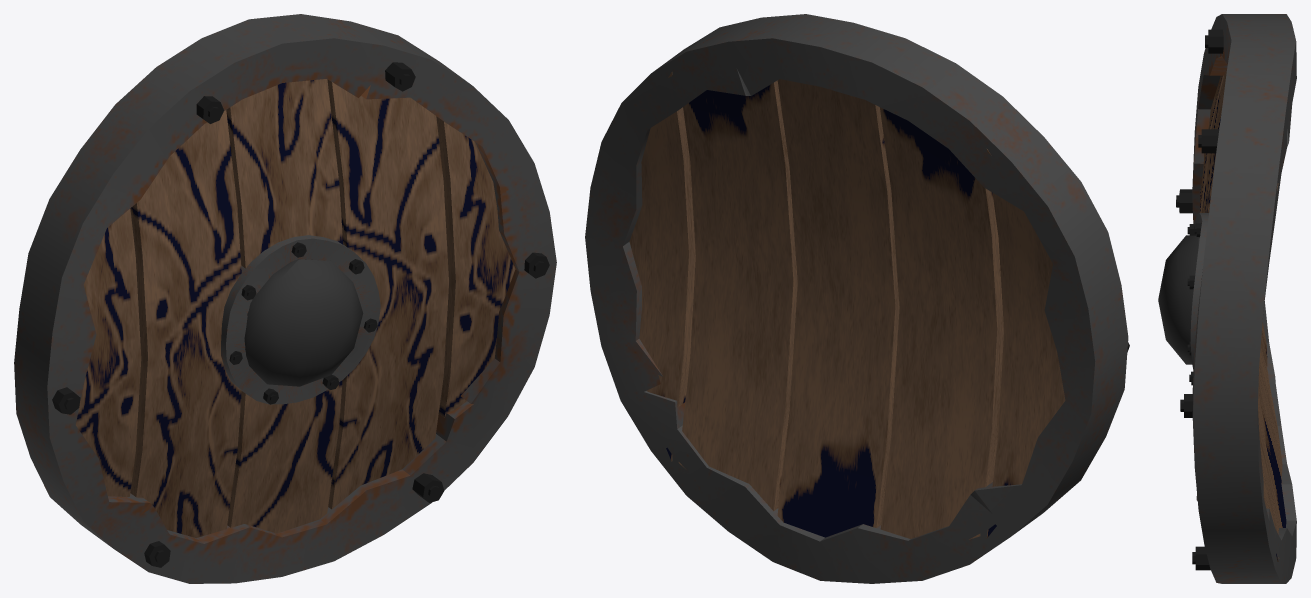
Rendered from shield_minigame (2).fbx.
3 views of the same model, side by side, from view 1: azimuth 30°, elevation 25°; view 2: azimuth 150°, elevation 25°; view 3: azimuth 270°, elevation 25° (orthographic). The views are drawn at different scales.
Parts seen in each view (by area): view 1: cube_lowpoly.001; view 2: cube_lowpoly.001; view 3: cube_lowpoly.001, Cylinder.015, Cylinder.018, Cylinder.019, Cylinder.021, Cylinder.014.
Part boxes in pixels (x1,y1,x2,y2): cube_lowpoly.001: (14, 14, 556, 583); cube_lowpoly.001: (585, 14, 1128, 583); cube_lowpoly.001: (1158, 14, 1296, 583); Cylinder.015: (1198, 129, 1219, 153); Cylinder.018: (1205, 29, 1223, 53); Cylinder.019: (1176, 189, 1192, 213); Cylinder.021: (1192, 546, 1210, 570); Cylinder.014: (1180, 394, 1192, 417).
Size of the model in its own units: 341 by 341 by 82.65.
